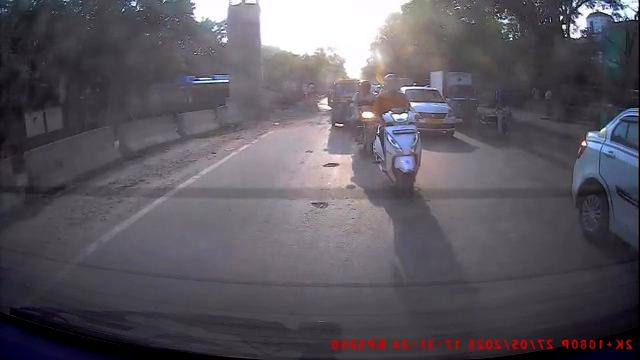motorcycle_with_helmet: (372, 72, 424, 191), (351, 78, 377, 155)
